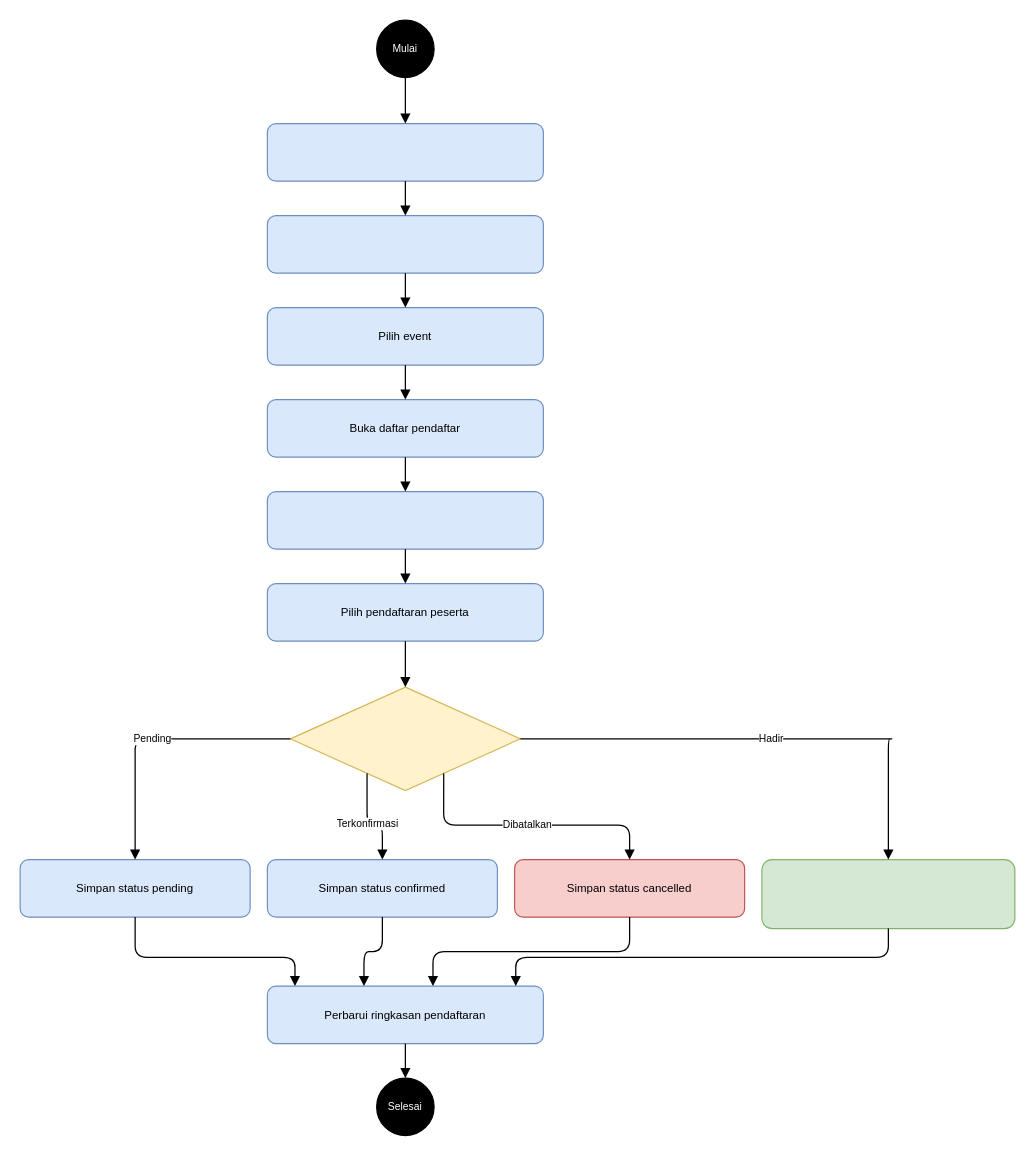
The diagram is 1035 pixels wide and 1156 high, and some of its shapes have lost their labels. Here are the shapes that lost their labels. From the top down, the centre of each, then its label:
the point at 404,151: Login sebagai penyelenggara
the point at 404,243: Buka daftar event milik sendiri
the point at 404,519: Cari atau filter pendaftar
the point at 404,738: Status yang ditetapkan?
the point at 888,893: Simpan status attended dan isi checked_in_at
